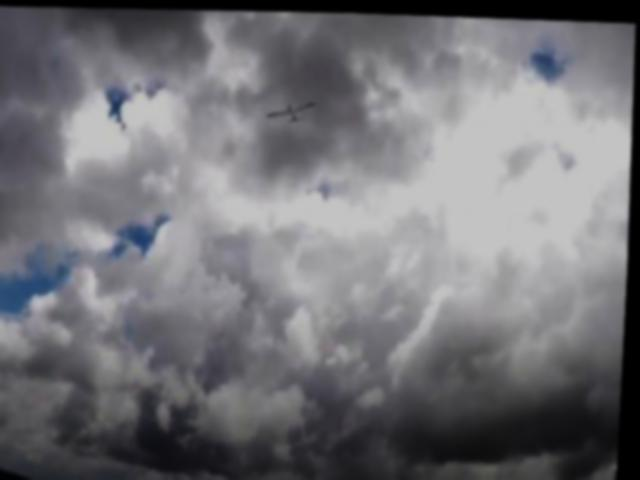iha: (261, 95, 321, 129)
